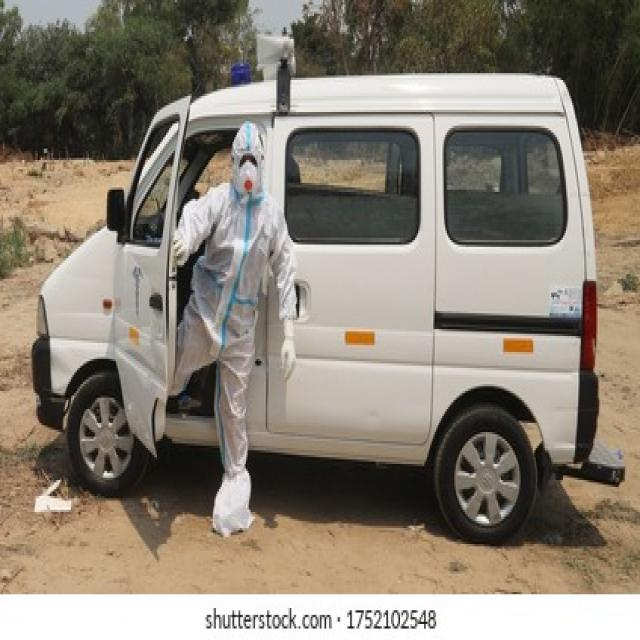ambulance: (30, 64, 600, 509)
